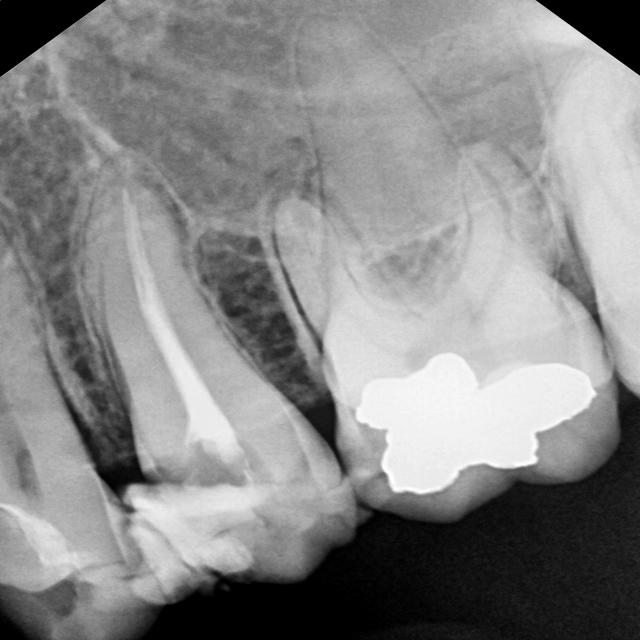Caries: (3, 389, 327, 640)
Restoration: (320, 322, 613, 514)
